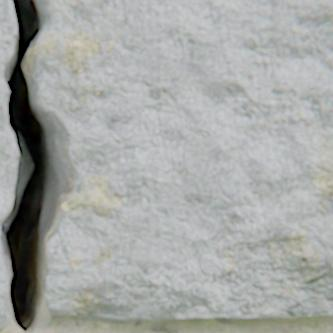broken_brick: (35, 0, 332, 323), (0, 0, 18, 224), (0, 245, 10, 327)
crack: (0, 0, 68, 332)
